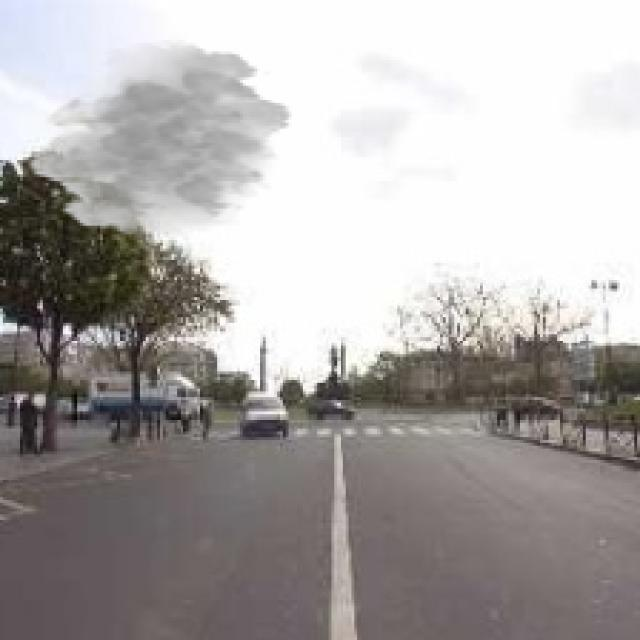Smoke: (26, 40, 294, 240)
